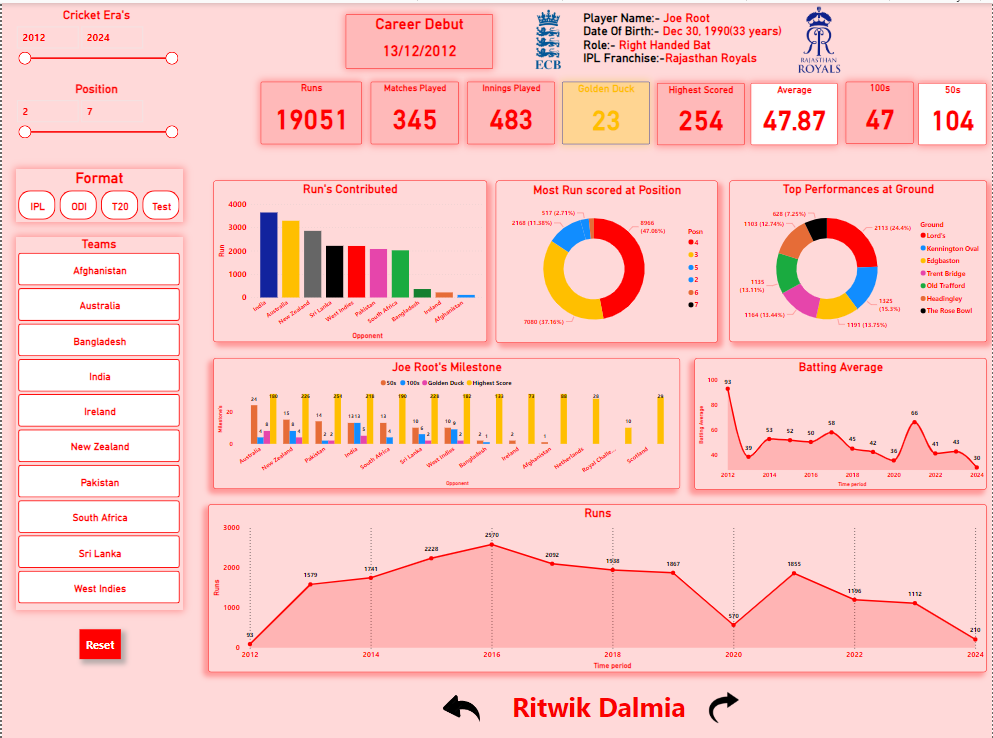

The page's visual inventory and layout, read from the dashboard file:
{"tool":"powerbi","page":{"name":"Joe Root","canvas":[1990,1480],"ordinal":4},"visuals":[{"type":"group","id":"g1","title":"Group 1","box":[521.2,158.4,1458.8,126.6],"z":0},{"type":"cardVisual","title":"Matches Played","fields":{"Data":["CountNonNull(stats_joe_root.Match)"]},"box":[741.6,158.4,177.2,125.7],"z":0,"group":"g1"},{"type":"textbox","box":[1162.5,11.2,430,131.2],"z":1000,"group":"g2"},{"type":"cardVisual","title":"Innings Played","fields":{"Data":["CountNonNull(stats_joe_root.Innings)"]},"box":[936,158.4,177.2,125.7],"z":1000,"group":"g1"},{"type":"textbox","box":[1019.1,1372.8,380,90],"z":1000},{"type":"group","id":"g2","title":"Group 2","box":[1162.5,11.2,430,131.2],"z":2000},{"type":"cardVisual","title":"Golden Duck","fields":{"Data":["stats_joe_root.Golden Duck jr"]},"box":[1127.5,158.4,177.2,125.7],"z":2000,"group":"g1"},{"type":"cardVisual","title":"Average","fields":{"Data":["stats_joe_root.Dynamic batting avg  jr"]},"box":[1505.3,160.9,174.5,124.4],"z":3000,"group":"g1"},{"type":"image","box":[851.6,1385.3,143.3,66.7],"z":3000},{"type":"cardVisual","title":"Runs","fields":{"Data":["Sum(stats_joe_root.Runs)"]},"box":[521.2,158.7,203.4,125.5],"z":4000,"group":"g1"},{"type":"advancedSlicerVisual","title":"Format","fields":{"Values":["stats_joe_root.Match_type"]},"box":[26.7,335,336.7,106.7],"z":4000},{"type":"cardVisual","title":"Highest Scored","fields":{"Data":["stats_joe_root.Highest Score jr"]},"box":[1318.5,159.8,175.6,124.4],"z":5000,"group":"g1"},{"type":"image","box":[1396.6,1372,108.3,95],"z":5000},{"type":"cardVisual","fields":{"Data":["stats_joe_root.FirstMatchDate jr"]},"box":[691.2,22.8,295.8,110],"z":6000},{"type":"cardVisual","title":"100s","fields":{"Data":["stats_joe_root.100s jr"]},"box":[1696.6,159.5,136,125],"z":6000,"group":"g1"},{"type":"cardVisual","title":"50s","fields":{"Data":["stats_joe_root.50s jr"]},"box":[1842,160.9,136.7,124.4],"z":7000,"group":"g1"},{"type":"actionButton","box":[155,1258.3,83.3,60],"z":7000},{"type":"areaChart","title":"Runs","fields":{"Category":["stats_joe_root.Match_Year"],"Y":["Sum(stats_joe_root.Runs)"]},"box":[415,1007.5,1565,337.5],"z":8000},{"type":"advancedSlicerVisual","fields":{"Values":["stats_joe_root.Versus"]},"box":[28.3,470,335,750],"z":9000},{"type":"areaChart","fields":{"Y":["stats_joe_root.BattingAverage jr"],"Category":["stats_joe_root.Match_Year"]},"box":[1392.5,712.5,587.5,265],"z":10000},{"type":"clusteredColumnChart","title":"Joe Root''s Milestone","fields":{"Y":["stats_joe_root.50s jr","stats_joe_root.100s jr","stats_joe_root.Golden Duck jr","stats_joe_root.Highest Score jr"],"Category":["stats_joe_root.Versus"]},"box":[425,713.3,938.3,263.3],"z":11000},{"type":"clusteredColumnChart","title":"Run''s Contributed","fields":{"Y":["Sum(stats_joe_root.Runs)"],"Category":["stats_joe_root.Versus"]},"box":[425,356.7,550,325],"z":12000},{"type":"slicer","title":"Cricket Era''s","fields":{"Values":["stats_joe_root.Match_Year"]},"box":[18.3,10,345,133.3],"z":13000},{"type":"donutChart","title":"Most Run scored at Position","fields":{"Category":["stats_joe_root.Posn"],"Y":["Sum(stats_joe_root.Runs)"]},"box":[993.3,356.7,446.7,326.7],"z":14000},{"type":"slicer","title":"Position","fields":{"Values":["stats_joe_root.Posn"]},"box":[18.3,158.3,345,133.3],"z":15000},{"type":"donutChart","title":"Top Performances at Ground  ","fields":{"Y":["Sum(stats_joe_root.Runs)"],"Category":["stats_joe_root.Ground"]},"box":[1462.5,357.5,517.5,325],"z":16000},{"type":"image","box":[1588.8,0,107.5,150],"z":17000},{"type":"image","box":[1051.2,0,95,150],"z":18000}]}

Visuals, with their boxes in screenshot pixels (x1, y1, x2, y2), scaled from the page's 1990x1480 canvas onto the 993x738 screenshot:
"Group 1" group: l=260, t=79, r=988, b=142
"Matches Played" cardVisual: l=370, t=79, r=458, b=142
textbox: l=580, t=6, r=795, b=71
"Innings Played" cardVisual: l=467, t=79, r=555, b=142
textbox: l=509, t=685, r=698, b=729
"Group 2" group: l=580, t=6, r=795, b=71
"Golden Duck" cardVisual: l=563, t=79, r=651, b=142
"Average" cardVisual: l=751, t=80, r=838, b=142
image: l=425, t=691, r=496, b=724
"Runs" cardVisual: l=260, t=79, r=362, b=142
"Format" advancedSlicerVisual: l=13, t=167, r=181, b=220
"Highest Scored" cardVisual: l=658, t=80, r=746, b=142
image: l=697, t=684, r=751, b=732
cardVisual - stats_joe_root.FirstMatchDate jr: l=345, t=11, r=493, b=66
"100s" cardVisual: l=847, t=80, r=914, b=142
"50s" cardVisual: l=919, t=80, r=987, b=142
actionButton: l=77, t=627, r=119, b=657
"Runs" areaChart: l=207, t=502, r=988, b=671
advancedSlicerVisual - stats_joe_root.Versus: l=14, t=234, r=181, b=608
areaChart - stats_joe_root.BattingAverage jr x stats_joe_root.Match_Year: l=695, t=355, r=988, b=487
"Joe Root''s Milestone" clusteredColumnChart: l=212, t=356, r=680, b=487
"Run''s Contributed" clusteredColumnChart: l=212, t=178, r=487, b=340
"Cricket Era''s" slicer: l=9, t=5, r=181, b=71
"Most Run scored at Position" donutChart: l=496, t=178, r=719, b=341
"Position" slicer: l=9, t=79, r=181, b=145
"Top Performances at Ground  " donutChart: l=730, t=178, r=988, b=340
image: l=793, t=0, r=846, b=75
image: l=525, t=0, r=572, b=75
